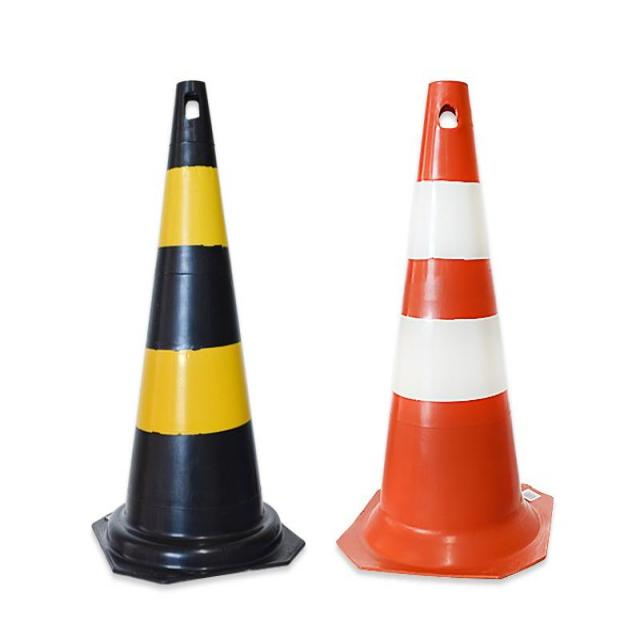cone: (98, 84, 307, 591), (340, 81, 545, 578)
